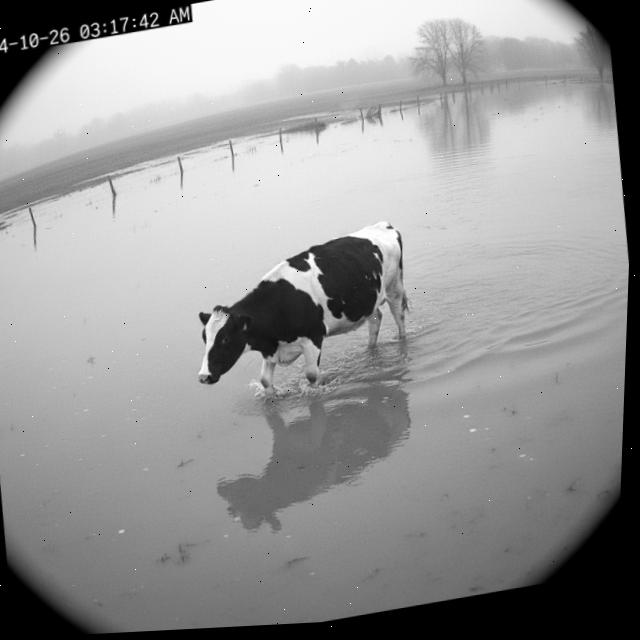cow: (161, 201, 442, 426)
